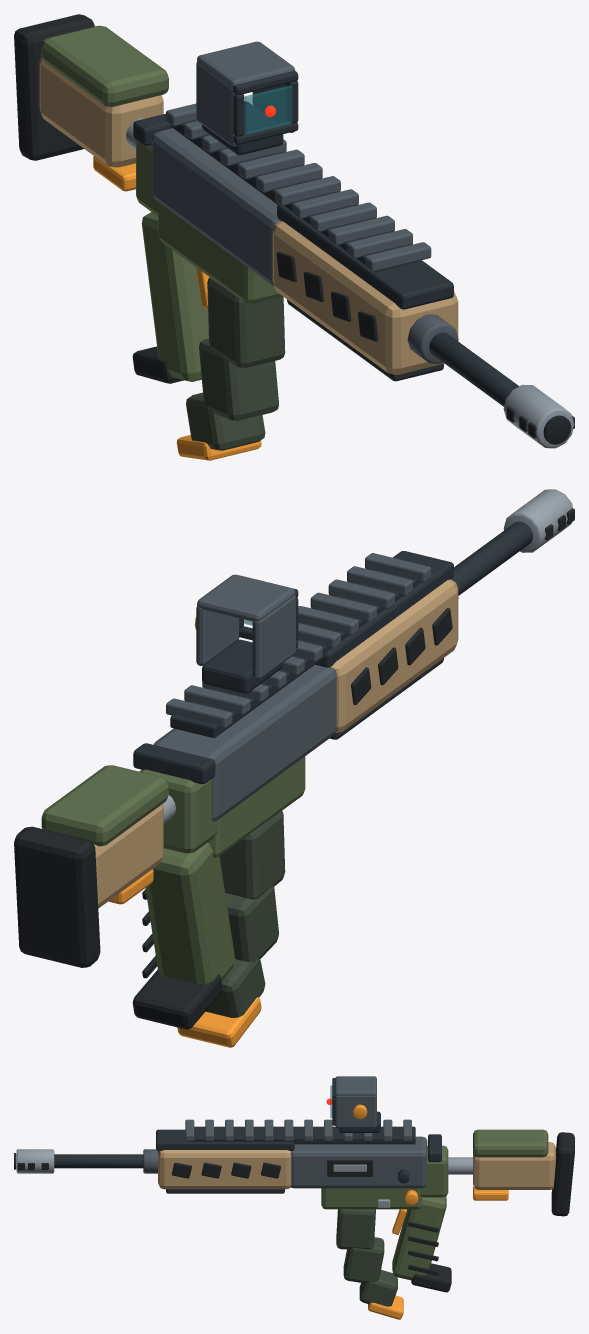
Rendered from assault_rifle.glb.
3 views of the same model, one above another, from view 1: azimuth 30°, elevation 25°; view 2: azimuth 150°, elevation 25°; view 3: azimuth 270°, elevation 25° (orthographic). The views are drawn at different scales.
Parts seen in each view (by area): view 1: Receiver_Upper, Handguard_Core, Pistol_Grip, Stock_Cheek, Stock_Main, Magazine_Upper, Stock_Buttpad, Magazine_Mid, Handguard_Top, Receiver_Lower, Optic_Top, Magazine_Lower (+26 smaller); view 2: Receiver_Upper, Stock_Buttpad, Pistol_Grip, Handguard_Core, Stock_Cheek, Stock_Main, Magazine_Upper, Receiver_Lower, Grip_Base, Receiver_Rear_Block, Magazine_Mid, Optic_Top (+18 smaller); view 3: Receiver_Upper, Handguard_Core, Stock_Main, Pistol_Grip, Top_Rail_Base, Stock_Cheek, Receiver_Lower, Stock_Buttpad, Magazine_Upper, Handguard_Top, Magazine_Mid, Barrel (+13 smaller).
Part boxes in pixels (x1=…): Receiver_Upper: x1=151, y1=128, x2=280, y2=285; Handguard_Core: x1=272, y1=221, x2=458, y2=374; Pistol_Grip: x1=141, y1=212, x2=208, y2=381; Stock_Cheek: x1=41, y1=25, x2=168, y2=106; Stock_Main: x1=39, y1=55, x2=163, y2=167; Magazine_Upper: x1=207, y1=277, x2=285, y2=368; Stock_Buttpad: x1=14, y1=14, x2=94, y2=160; Magazine_Mid: x1=199, y1=338, x2=278, y2=421; Handguard_Top: x1=277, y1=204, x2=453, y2=309; Receiver_Lower: x1=158, y1=202, x2=282, y2=303; Optic_Top: x1=197, y1=41, x2=295, y2=86; Magazine_Lower: x1=186, y1=392, x2=265, y2=450; Receiver_Upper: x1=153, y1=664, x2=336, y2=821; Stock_Buttpad: x1=14, y1=826, x2=100, y2=967; Pistol_Grip: x1=145, y1=842, x2=234, y2=983; Handguard_Core: x1=330, y1=579, x2=458, y2=732; Stock_Cheek: x1=41, y1=765, x2=168, y2=846; Stock_Main: x1=94, y1=804, x2=163, y2=908; Magazine_Upper: x1=219, y1=811, x2=285, y2=899; Receiver_Lower: x1=208, y1=756, x2=305, y2=857; Grip_Base: x1=132, y1=969, x2=222, y2=1029; Receiver_Rear_Block: x1=139, y1=769, x2=217, y2=853; Magazine_Mid: x1=225, y1=885, x2=278, y2=962; Optic_Top: x1=197, y1=574, x2=295, y2=621; Receiver_Upper: x1=290, y1=1136, x2=427, y2=1188; Handguard_Core: x1=158, y1=1150, x2=291, y2=1189; Stock_Main: x1=473, y1=1142, x2=555, y2=1189; Pistol_Grip: x1=392, y1=1196, x2=446, y2=1280; Top_Rail_Base: x1=190, y1=1126, x2=415, y2=1144; Stock_Cheek: x1=473, y1=1129, x2=548, y2=1157; Receiver_Lower: x1=321, y1=1188, x2=422, y2=1209; Stock_Buttpad: x1=551, y1=1132, x2=574, y2=1216; Magazine_Upper: x1=336, y1=1209, x2=375, y2=1249; Handguard_Top: x1=156, y1=1129, x2=294, y2=1150; Magazine_Mid: x1=343, y1=1237, x2=384, y2=1283; Barrel: x1=54, y1=1154, x2=143, y2=1168.
Size of the model in its own units: 0.137 by 0.6391 by 1.42.
